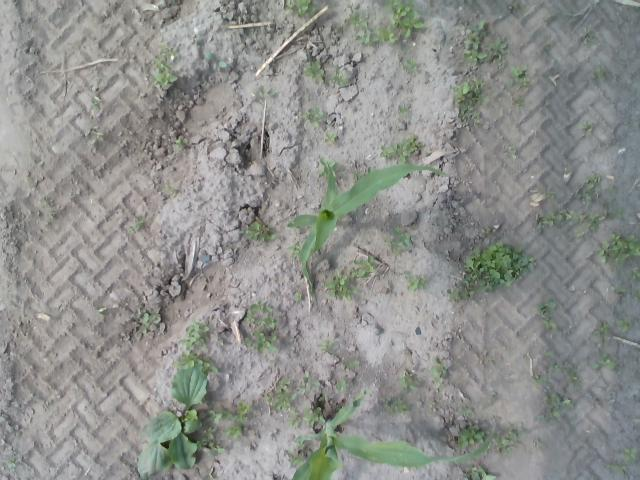Maize: (288, 162, 449, 296), (290, 394, 497, 479)
Weeds: (138, 364, 208, 476), (444, 241, 536, 302), (530, 348, 578, 422), (173, 316, 220, 374), (463, 20, 508, 68), (240, 298, 278, 354), (208, 400, 252, 440), (454, 78, 489, 122), (386, 0, 424, 40), (576, 208, 623, 238), (598, 234, 640, 264), (150, 45, 178, 87), (379, 136, 418, 166), (325, 267, 357, 301), (495, 423, 526, 455), (381, 226, 412, 255), (535, 210, 573, 233), (263, 380, 292, 410), (239, 219, 276, 241), (293, 372, 320, 400), (574, 174, 600, 202), (538, 296, 560, 328), (197, 428, 223, 455), (302, 59, 328, 85), (456, 424, 484, 448), (357, 29, 399, 44), (286, 0, 319, 19), (431, 355, 450, 388), (135, 310, 160, 334), (348, 256, 377, 276), (300, 106, 326, 127), (316, 157, 341, 178), (382, 396, 408, 416), (301, 408, 326, 428), (26, 162, 44, 188), (461, 467, 497, 480), (399, 372, 421, 392), (204, 52, 228, 70), (126, 214, 147, 234), (594, 352, 616, 371), (405, 274, 428, 292), (509, 64, 529, 84), (286, 446, 306, 466), (330, 66, 350, 85), (592, 322, 614, 339), (285, 409, 302, 430), (348, 11, 368, 28), (616, 316, 633, 333), (286, 240, 302, 258), (582, 29, 598, 46), (342, 354, 361, 368), (402, 56, 418, 72), (317, 340, 336, 353), (592, 63, 607, 79), (259, 85, 277, 98), (609, 463, 627, 475), (622, 447, 638, 460), (172, 136, 186, 150), (543, 186, 557, 200), (506, 145, 522, 157), (164, 183, 178, 196), (396, 104, 414, 114), (39, 196, 54, 208), (84, 130, 101, 140), (203, 467, 216, 480), (483, 350, 496, 363), (326, 132, 338, 146), (334, 379, 348, 391), (90, 99, 102, 113), (613, 284, 628, 295), (630, 266, 640, 281), (46, 209, 59, 220), (92, 78, 102, 92), (459, 407, 474, 416), (6, 458, 16, 470), (632, 286, 640, 301), (514, 94, 524, 106), (334, 24, 346, 34), (579, 120, 592, 129), (317, 396, 329, 405), (290, 292, 300, 302), (546, 14, 556, 23), (610, 182, 618, 192), (510, 1, 519, 9), (97, 308, 108, 314), (482, 228, 492, 234), (429, 402, 437, 408), (270, 360, 276, 366)
